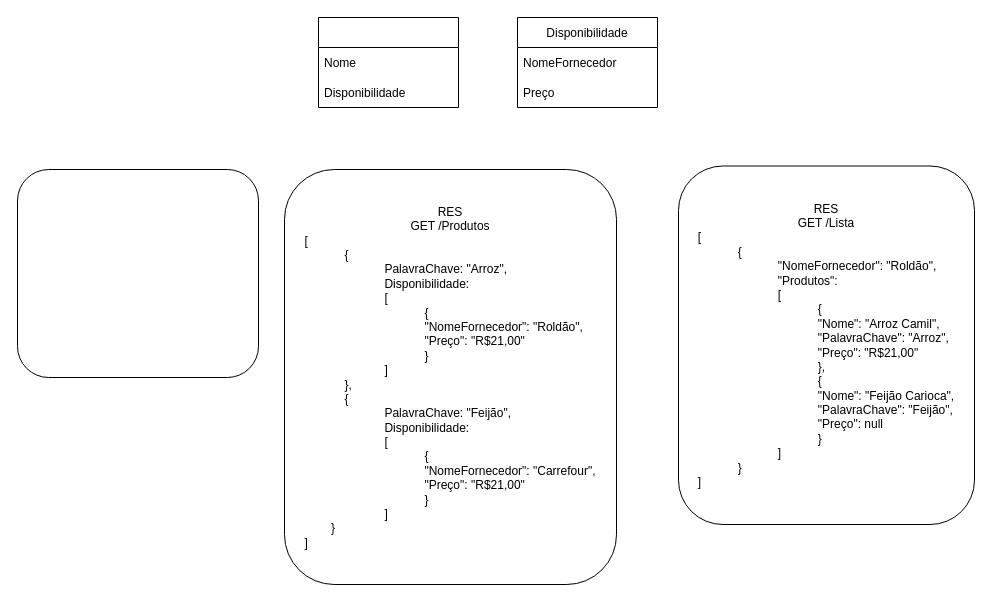
This 992x602 diagram has some shape labels left out. The box of each missing label's shape, as (x1, y1, x2, y2) in pixels:
Produto: (318, 16, 458, 108)
REQ GET /Produtos [ { Name: "Arroz 5kg" }, { Name: "Feijão 5kg" } ]: (16, 168, 258, 378)
